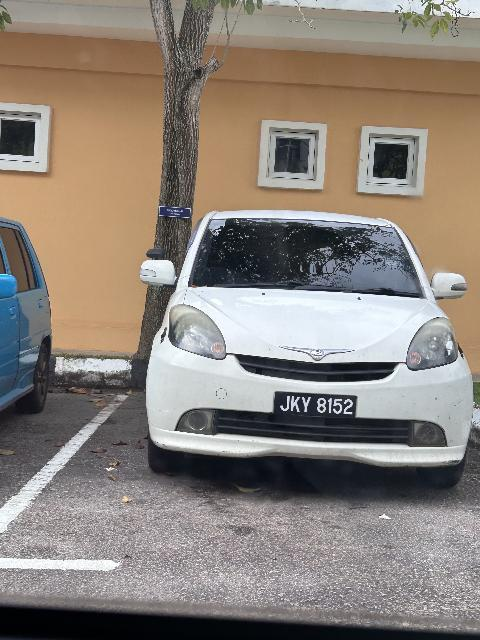JKY8152: (273, 392, 359, 424)
License_Plate: (273, 392, 359, 424)
car: (128, 203, 480, 485)
